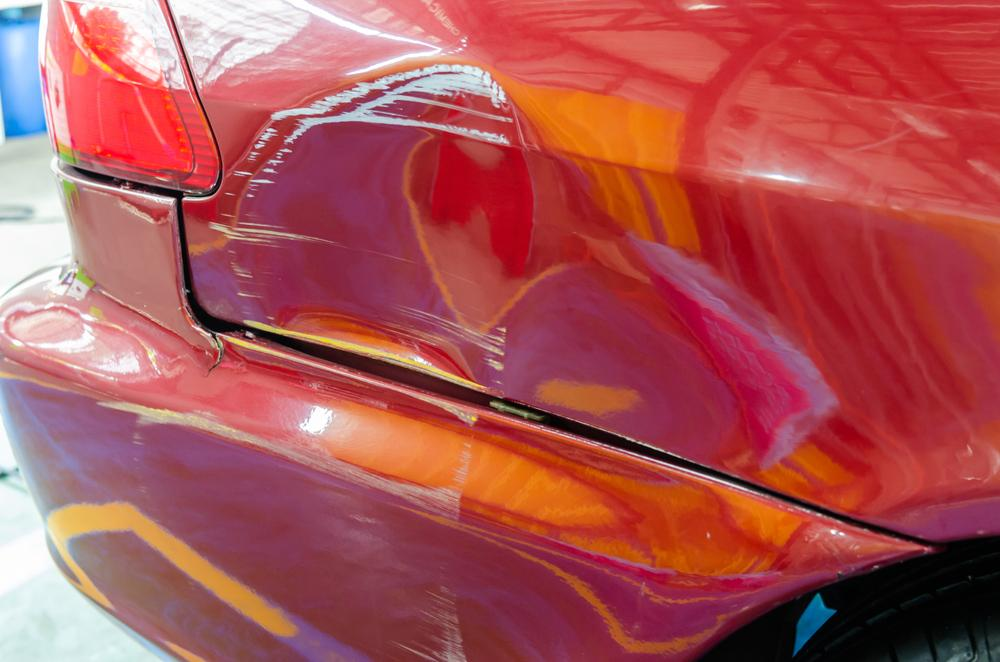crack: (184, 304, 224, 378)
dent: (493, 251, 750, 476)
scratch: (91, 334, 487, 662), (223, 61, 529, 389)
